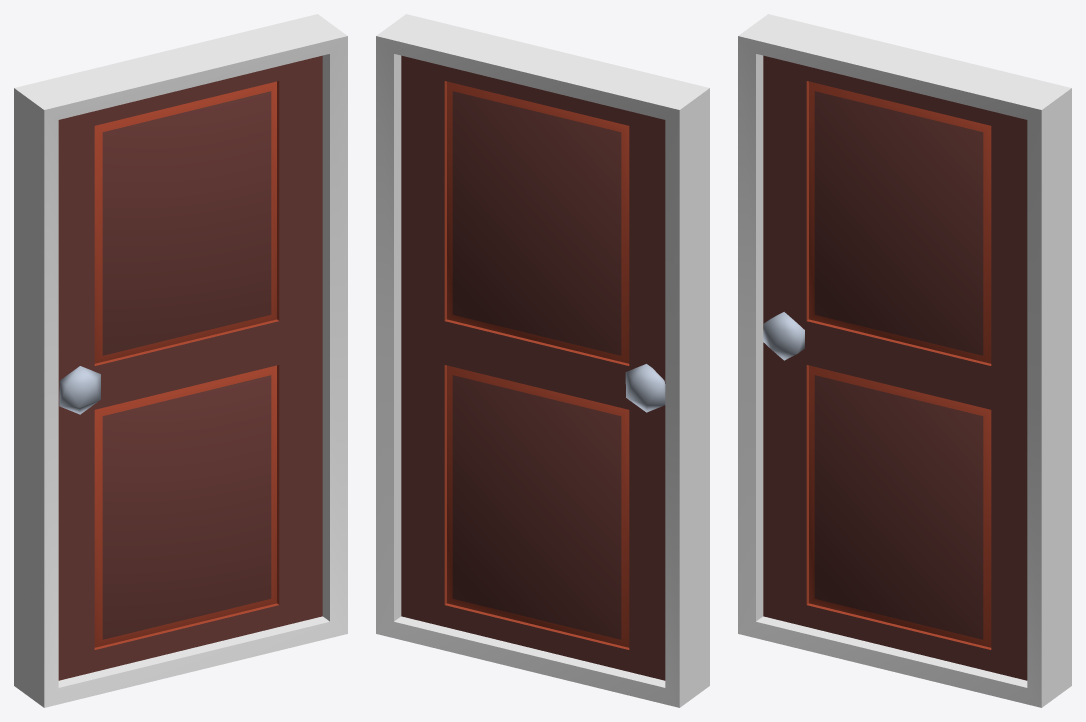
Rendered from Door_v01.fbx.
3 views of the same model, side by side, from view 1: azimuth 30°, elevation 25°; view 2: azimuth 150°, elevation 25°; view 3: azimuth 330°, elevation 25° (orthographic).
Visible parts, largest first — view 1: Door, DoorFrame; view 2: Door, DoorFrame; view 3: Door, DoorFrame.
Part boxes in pixels (left/top/right/bottom): Door: left=58, top=55, right=322, bottom=680; DoorFrame: left=14, top=14, right=347, bottom=707; Door: left=401, top=55, right=665, bottom=680; DoorFrame: left=376, top=14, right=709, bottom=707; Door: left=763, top=55, right=1027, bottom=680; DoorFrame: left=738, top=14, right=1071, bottom=707.
Size of the model in its own units: 448 by 842 by 79.26.
